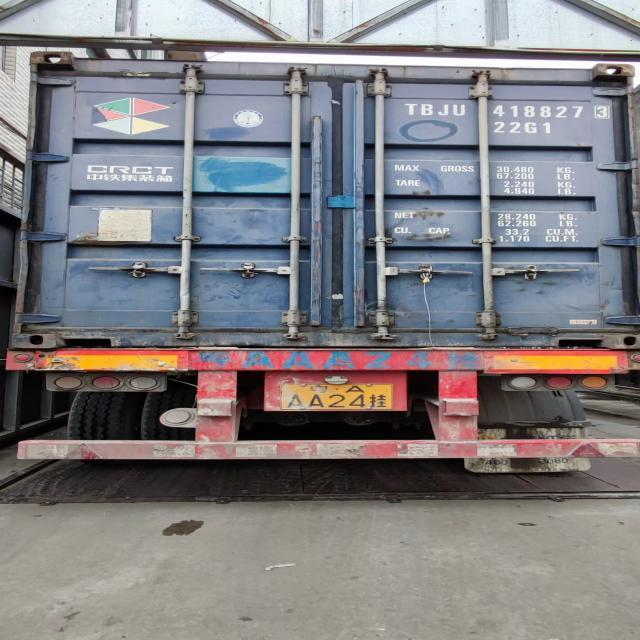ISO: (504, 122, 551, 136)
container_number: (410, 102, 603, 119), (494, 102, 610, 118)
